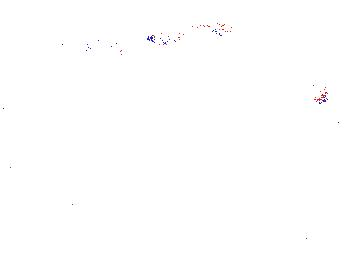red belly glassfish: (321, 50, 346, 63)
redtail glassfish: (146, 22, 230, 46), (60, 36, 118, 53), (317, 84, 346, 108)
